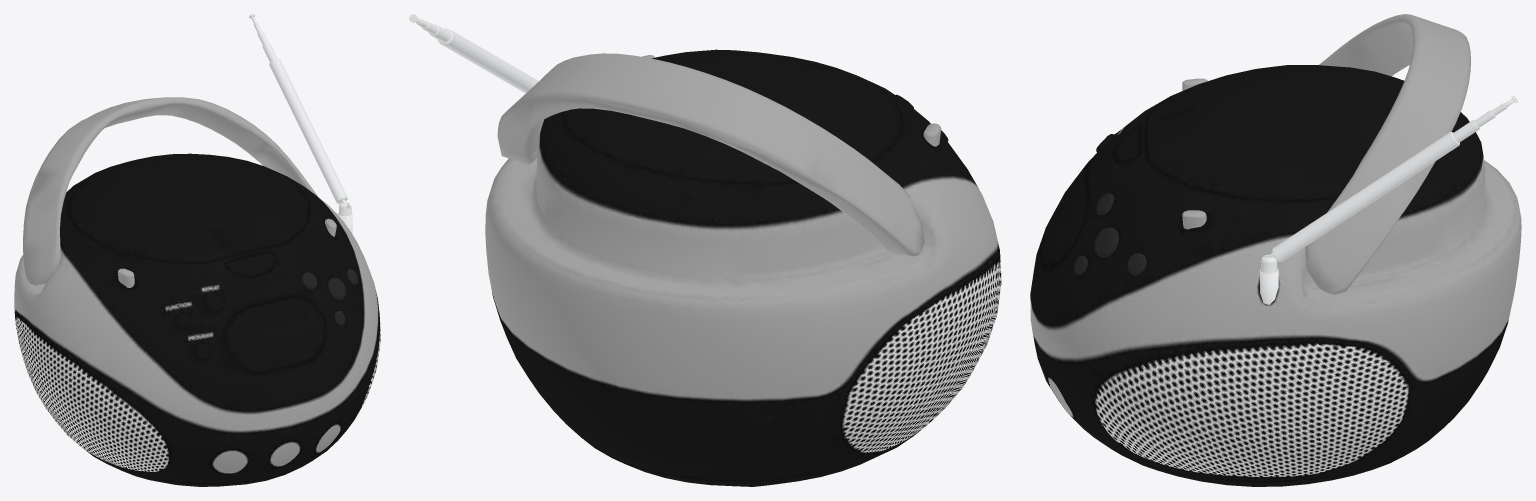
The model's file is BoomBox.glb.
3 renders of one model, left to right at view 1: azimuth 30°, elevation 25°; view 2: azimuth 150°, elevation 25°; view 3: azimuth 270°, elevation 25°, orthographic. The views are drawn at different scales.
Parts seen in each view (by area): view 1: BoomBox; view 2: BoomBox; view 3: BoomBox.
Boxes of the visible parts, x1,y1,x2,y2 form: BoomBox: (14,14,380,486); BoomBox: (409,14,1001,486); BoomBox: (1030,14,1521,486).
Size of the model in its own units: 0.0198 by 0.0195 by 0.0202.
Materials: 1 (1 with a texture image).
